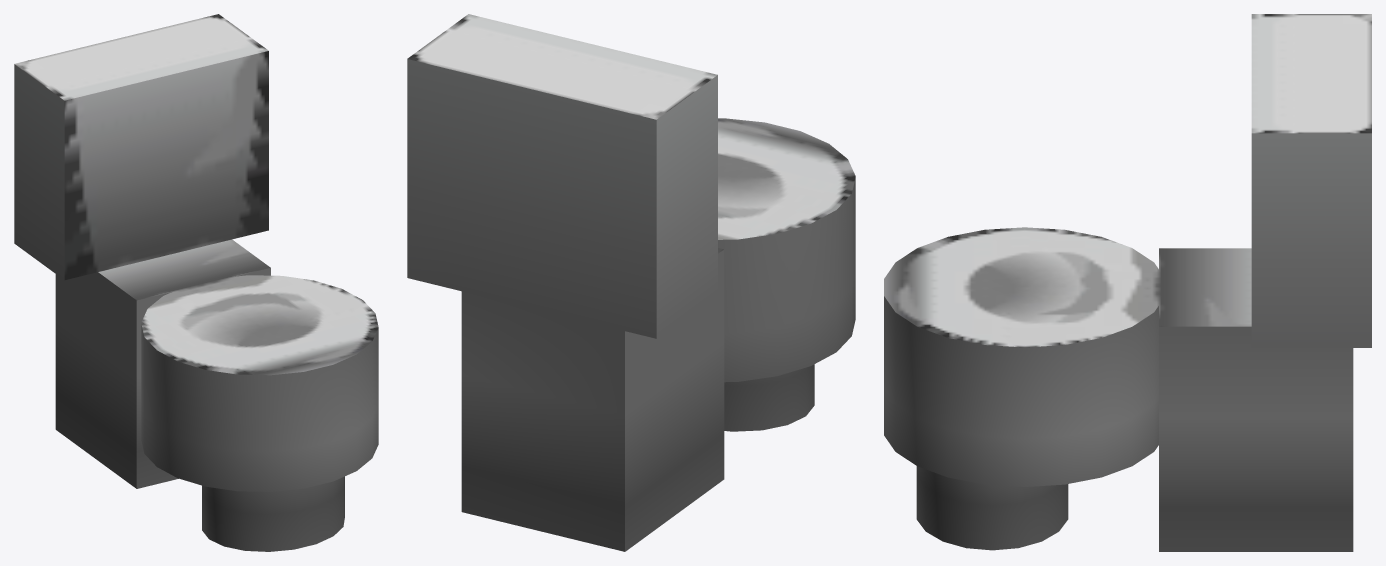
Rendered from Building_AncientToilet.obj.
The picture shows the model from 3 angles, left to right: view 1: azimuth 30°, elevation 25°; view 2: azimuth 150°, elevation 25°; view 3: azimuth 270°, elevation 25°; orthographic projection. The views are drawn at different scales.
Parts seen in each view (by area): view 1: Body; view 2: Body; view 3: Body.
Part boxes in pixels (x1,y1,x2,y2): Body: (14,14,378,551); Body: (407,14,855,551); Body: (884,14,1371,551).
Size of the model in its own units: 0.4822 by 0.82 by 0.8235.
Materials: 1 (1 with a texture image).
